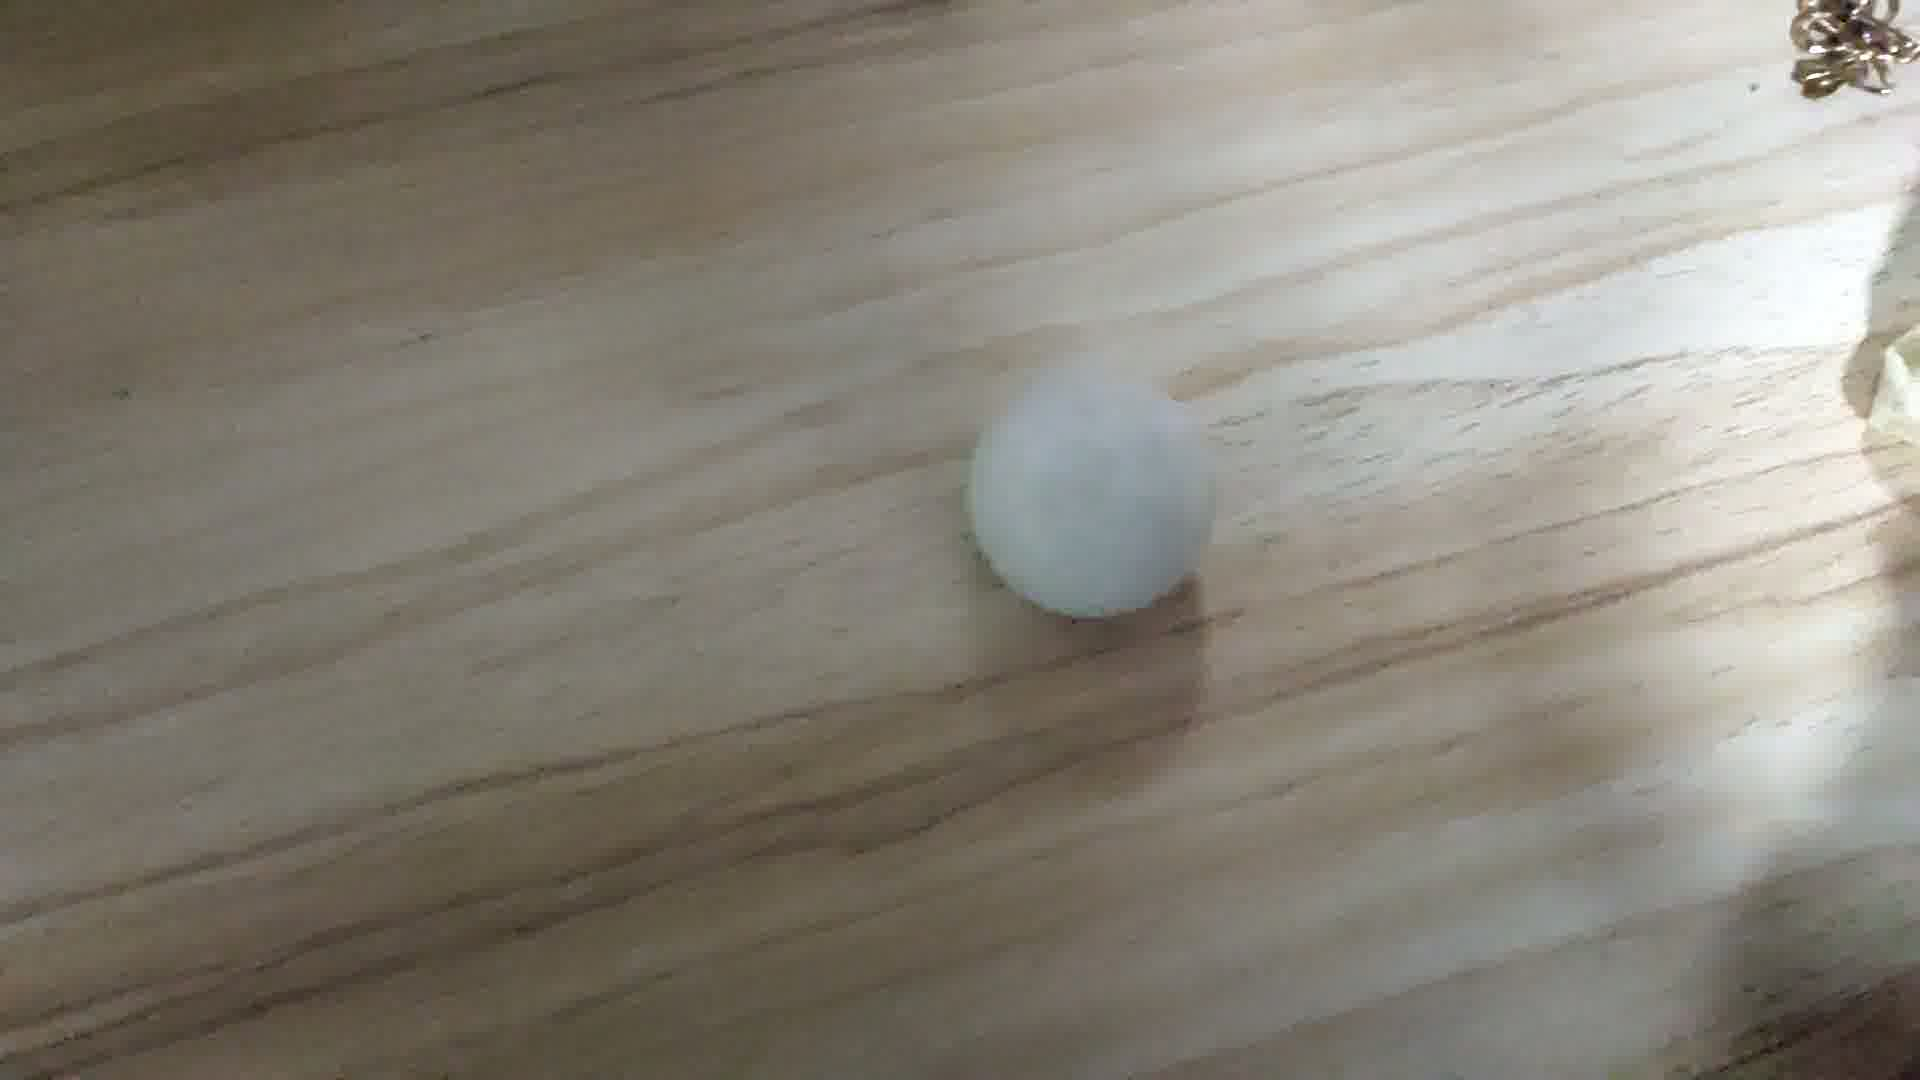Ball: (967, 361, 1225, 618)
